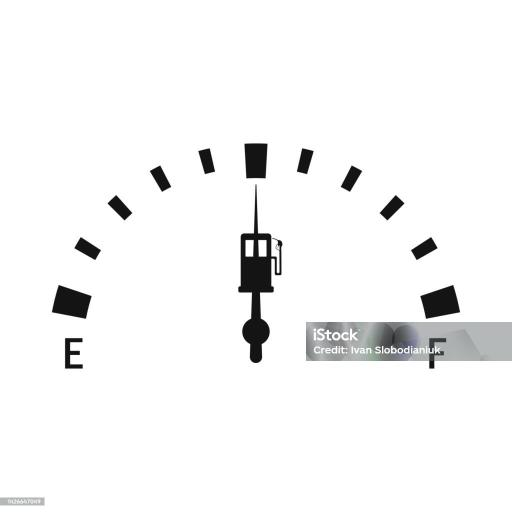empty: (55, 336, 87, 373)
fuel_icon: (235, 229, 290, 293)
full: (426, 336, 448, 368)
guage_area: (50, 139, 470, 389)
needle_center: (242, 314, 272, 347)
needle_tip: (244, 180, 272, 208)
